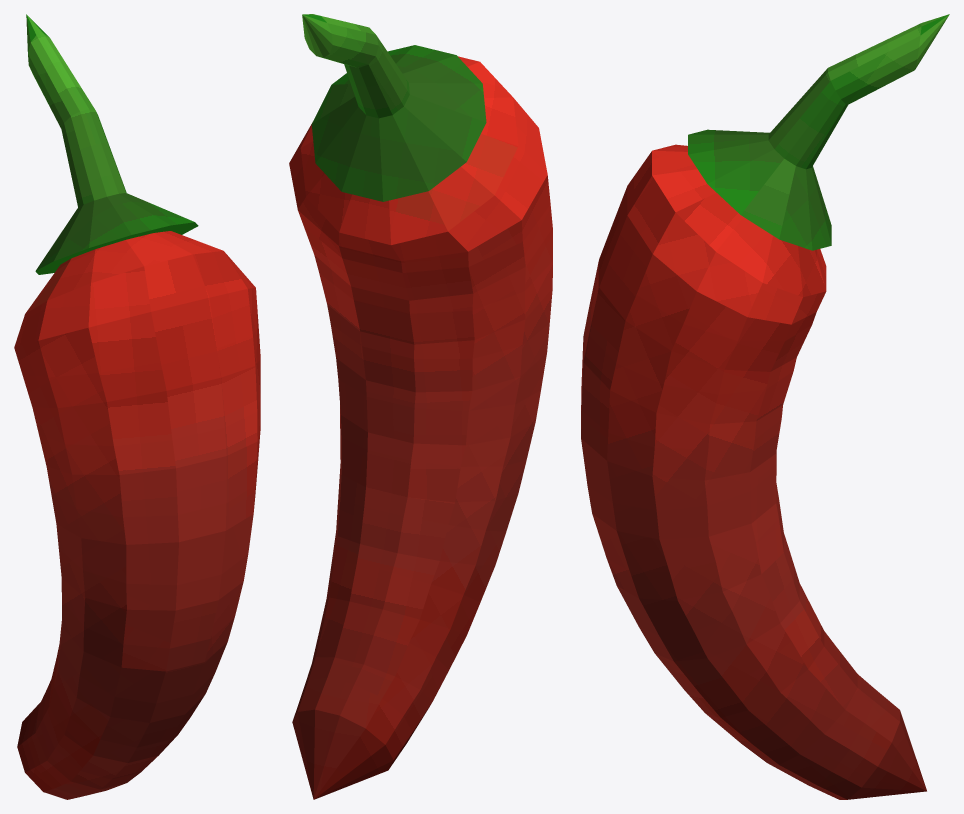
Rendered from peper.fbx.
3 renders of one model, left to right at view 1: azimuth 30°, elevation 25°; view 2: azimuth 150°, elevation 25°; view 3: azimuth 270°, elevation 25°, orthographic. The views are drawn at different scales.
Visible parts, largest first — view 1: pepper, lisc; view 2: pepper, lisc; view 3: pepper, lisc.
Part boxes in pixels (bbox=[...]): pepper: bbox=[14, 231, 260, 799]; lisc: bbox=[26, 14, 198, 274]; pepper: bbox=[289, 56, 552, 799]; lisc: bbox=[302, 14, 486, 201]; pepper: bbox=[581, 144, 926, 799]; lisc: bbox=[688, 14, 949, 250].
Bounding box in the file's own units: 46.88 × 153 × 65.72.
2 materials, 2 textured.
